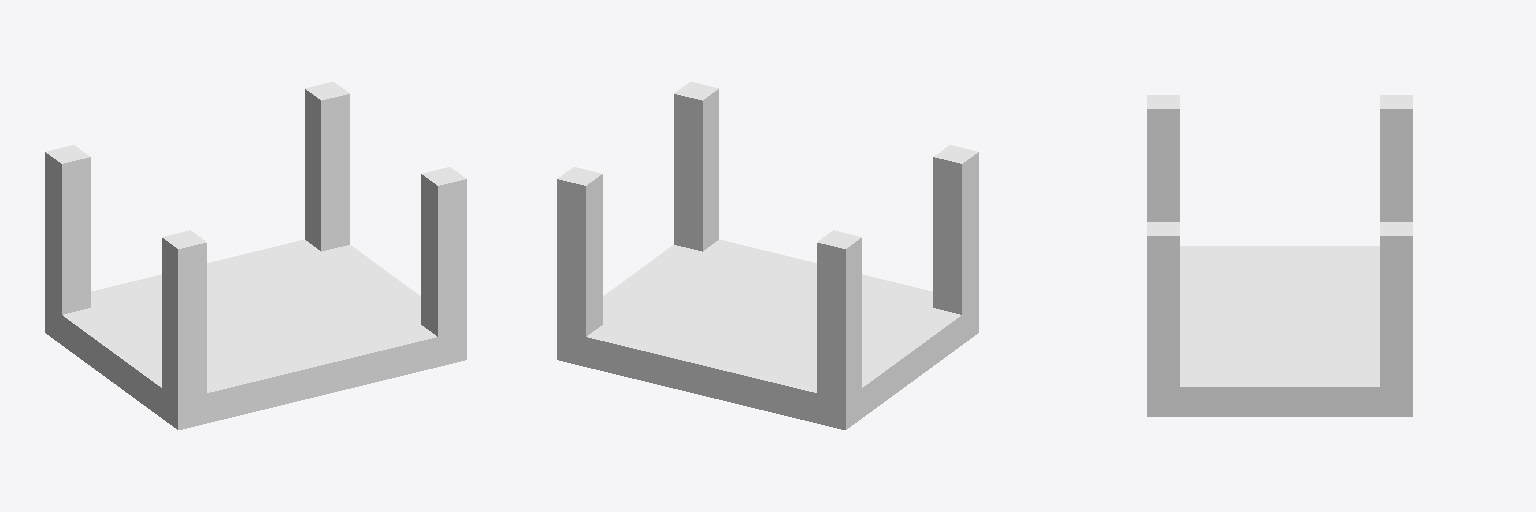
Rendered from smalltable.obj.
3 views of the same model, side by side, from view 1: azimuth 30°, elevation 25°; view 2: azimuth 150°, elevation 25°; view 3: azimuth 270°, elevation 25° (orthographic).
Parts seen in each view (by area): view 1: smalltable; view 2: smalltable; view 3: smalltable.
Part boxes in pixels (left/top/right/bottom): smalltable: left=45, top=82, right=466, bottom=429; smalltable: left=557, top=82, right=978, bottom=429; smalltable: left=1147, top=95, right=1412, bottom=416.
Size of the model in its own units: 10 by 6 by 8.